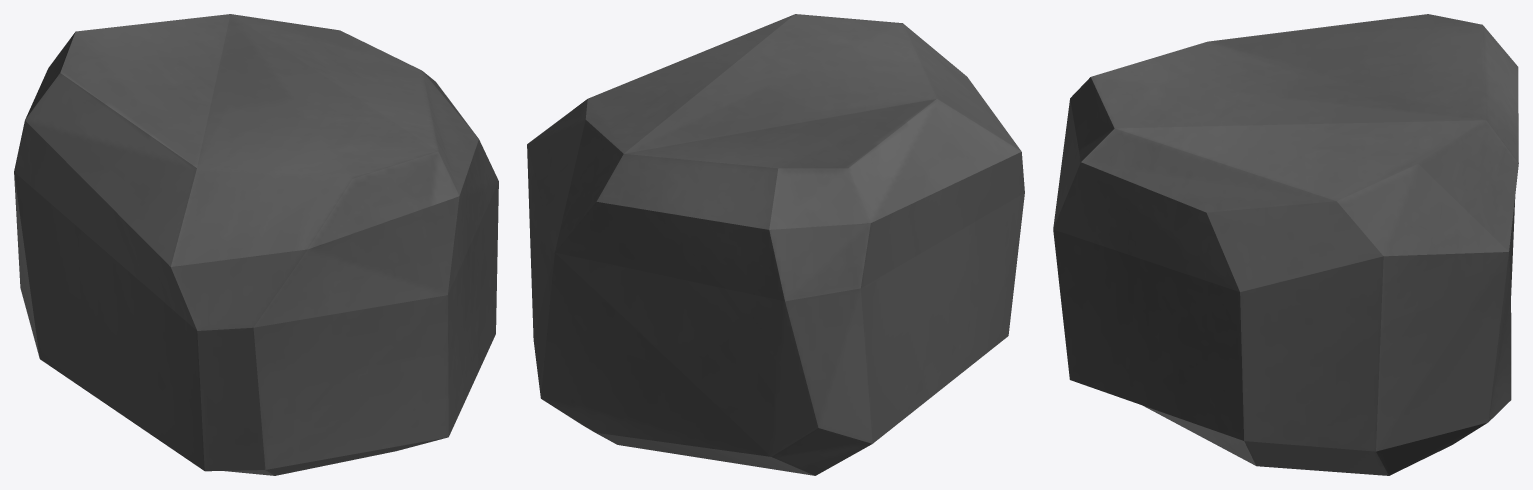
File: rock_6.glb
3 renders of one model, left to right at view 1: azimuth 30°, elevation 25°; view 2: azimuth 150°, elevation 25°; view 3: azimuth 270°, elevation 25°, orthographic. The views are drawn at different scales.
Visible parts, largest first — view 1: Rock_6; view 2: Rock_6; view 3: Rock_6.
Boxes of the visible parts, left/top/right/bottom form: Rock_6: left=14, top=14, right=498, bottom=475; Rock_6: left=527, top=14, right=1024, bottom=475; Rock_6: left=1053, top=14, right=1518, bottom=475.
Bounding box in the file's own units: 1.46 × 1.19 × 1.58.
Materials: 1 (1 with a texture image).
